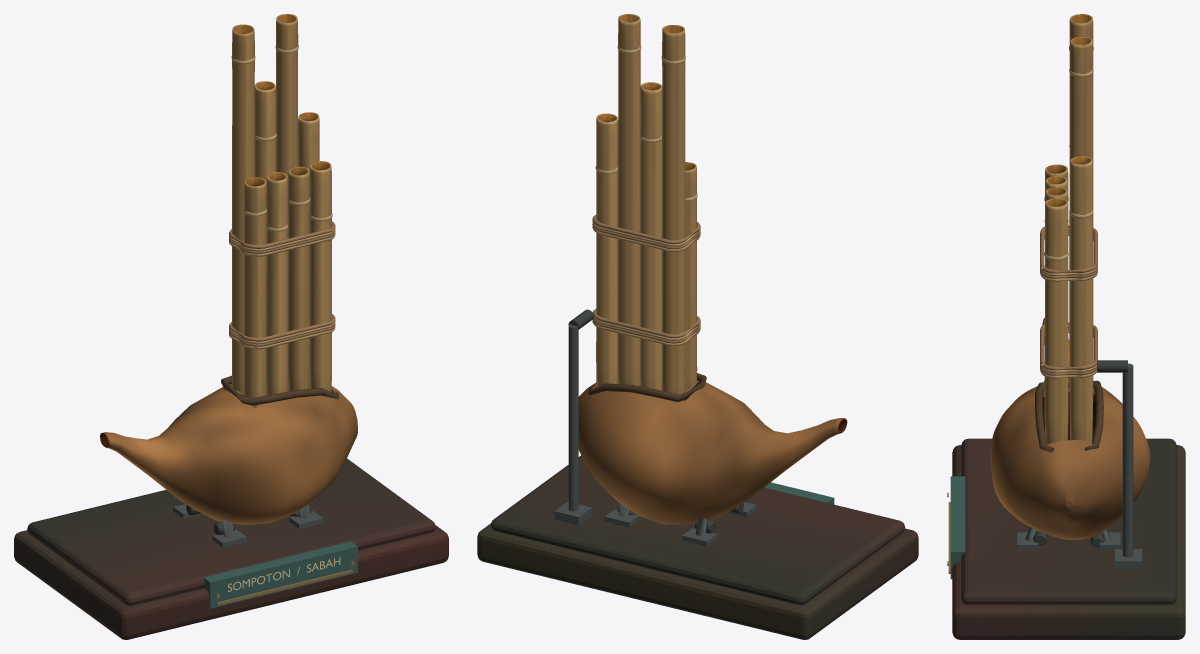
File: sabah-sompoton-display.glb
The picture shows the model from 3 angles, left to right: view 1: azimuth 30°, elevation 25°; view 2: azimuth 150°, elevation 25°; view 3: azimuth 270°, elevation 25°; orthographic projection. The views are drawn at different scales.
Visible parts, largest first — view 1: Lighter stepped upper plinth band, Hollow organic gourd shell and bent mouth opening, Long thin oiled timber pedestal, Hollow bamboo stalk LONG_RAFT_1, Hollow bamboo stalk SHORT_RAFT_4, Modern small dark-teal information panel, Hollow bamboo stalk SHORT_RAFT_1, Hollow bamboo stalk SHORT_RAFT_3, Hollow bamboo stalk SHORT_RAFT_2, Hollow bamboo stalk LONG_RAFT_3, Hollow bamboo stalk LONG_RAFT_2, Hollow bamboo stalk LONG_RAFT_4 (+1 smaller); view 2: Lighter stepped upper plinth band, Hollow organic gourd shell and bent mouth opening, Long thin oiled timber pedestal, Hollow bamboo stalk LONG_RAFT_1, Hollow bamboo stalk LONG_RAFT_3, Hollow bamboo stalk LONG_RAFT_2, Hollow bamboo stalk LONG_RAFT_4, Hollow bamboo stalk SHORT_RAFT_1, Slim dark back stabiliser of display only, Open dark gourd and raft seam bead, not a filled decal; view 3: Lighter stepped upper plinth band, Hollow organic gourd shell and bent mouth opening, Long thin oiled timber pedestal, Hollow bamboo stalk LONG_RAFT_4, Hollow bamboo stalk SHORT_RAFT_4, Hollow bamboo stalk LONG_RAFT_3, Slim dark back stabiliser of display only, Modern small dark-teal information panel, Open dark gourd and raft seam bead, not a filled decal, Hollow bamboo stalk LONG_RAFT_1, Individually modeled woven raft binding band.007, Individually modeled woven raft binding band.003 (+3 smaller).
Boxes of the visible parts, bbox=[...] form: Lighter stepped upper plinth band: bbox=[27, 458, 435, 605]; Hollow organic gourd shell and bent mouth opening: bbox=[100, 383, 357, 524]; Long thin oiled timber pedestal: bbox=[14, 525, 448, 639]; Hollow bamboo stalk LONG_RAFT_1: bbox=[232, 24, 254, 395]; Hollow bamboo stalk SHORT_RAFT_4: bbox=[309, 161, 331, 391]; Modern small dark-teal information panel: bbox=[203, 541, 357, 608]; Hollow bamboo stalk SHORT_RAFT_1: bbox=[244, 177, 266, 407]; Hollow bamboo stalk SHORT_RAFT_3: bbox=[288, 166, 309, 391]; Hollow bamboo stalk SHORT_RAFT_2: bbox=[266, 172, 287, 395]; Hollow bamboo stalk LONG_RAFT_3: bbox=[276, 14, 298, 391]; Hollow bamboo stalk LONG_RAFT_2: bbox=[254, 81, 276, 395]; Hollow bamboo stalk LONG_RAFT_4: bbox=[298, 112, 319, 168]; Lighter stepped upper plinth band: bbox=[490, 455, 905, 605]; Hollow organic gourd shell and bent mouth opening: bbox=[578, 381, 847, 524]; Long thin oiled timber pedestal: bbox=[477, 523, 918, 639]; Hollow bamboo stalk LONG_RAFT_1: bbox=[662, 25, 685, 402]; Hollow bamboo stalk LONG_RAFT_3: bbox=[618, 14, 640, 386]; Hollow bamboo stalk LONG_RAFT_2: bbox=[640, 82, 662, 390]; Hollow bamboo stalk LONG_RAFT_4: bbox=[596, 113, 618, 387]; Hollow bamboo stalk SHORT_RAFT_1: bbox=[685, 162, 697, 391]; Slim dark back stabiliser of display only: bbox=[568, 324, 578, 511]; Open dark gourd and raft seam bead, not a filled decal: bbox=[588, 373, 706, 401]; Lighter stepped upper plinth band: bbox=[961, 438, 1176, 604]; Hollow organic gourd shell and bent mouth opening: bbox=[990, 318, 1150, 539]; Long thin oiled timber pedestal: bbox=[952, 445, 1185, 639]; Hollow bamboo stalk LONG_RAFT_4: bbox=[1070, 156, 1092, 443]; Hollow bamboo stalk SHORT_RAFT_4: bbox=[1044, 198, 1068, 444]; Hollow bamboo stalk LONG_RAFT_3: bbox=[1069, 36, 1092, 419]; Slim dark back stabiliser of display only: bbox=[1122, 363, 1133, 557]; Modern small dark-teal information panel: bbox=[950, 476, 965, 579]; Open dark gourd and raft seam bead, not a filled decal: bbox=[1035, 380, 1103, 452]; Hollow bamboo stalk LONG_RAFT_1: bbox=[1069, 14, 1093, 402]; Individually modeled woven raft binding band.007: bbox=[1040, 225, 1097, 273]; Individually modeled woven raft binding band.003: bbox=[1040, 322, 1097, 370].
Bounding box in the file's own units: 0.512 × 0.783 × 0.3075.
